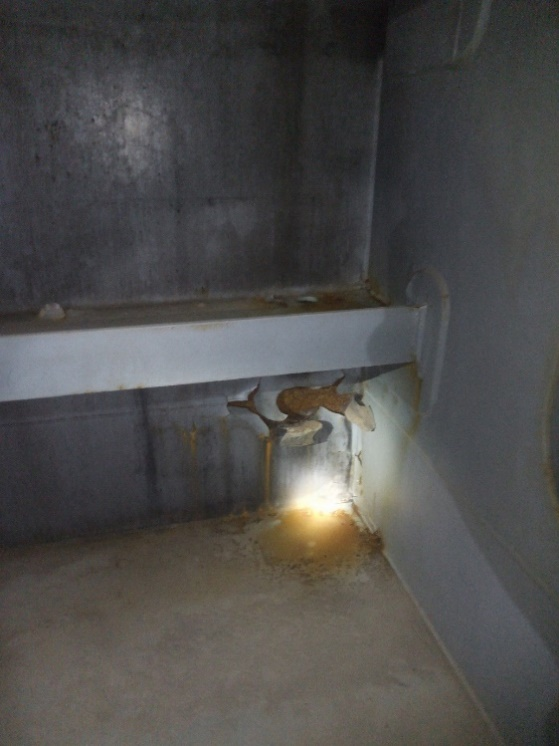corrosion: (224, 499, 394, 582), (231, 375, 379, 449), (259, 279, 380, 321)
